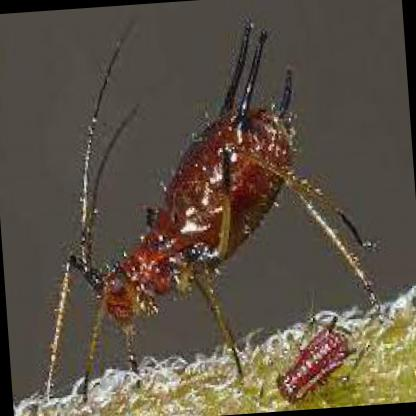uroleucon compositae: (75, 22, 377, 397)
